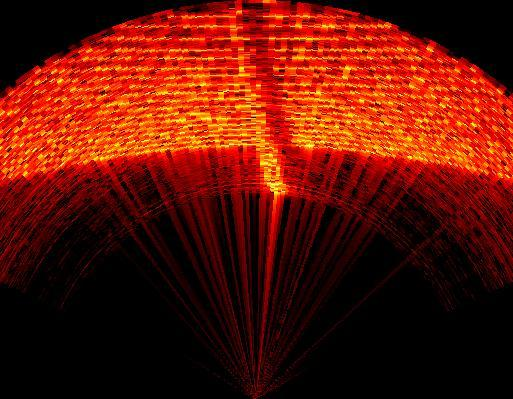pipe: (236, 0, 306, 186)
